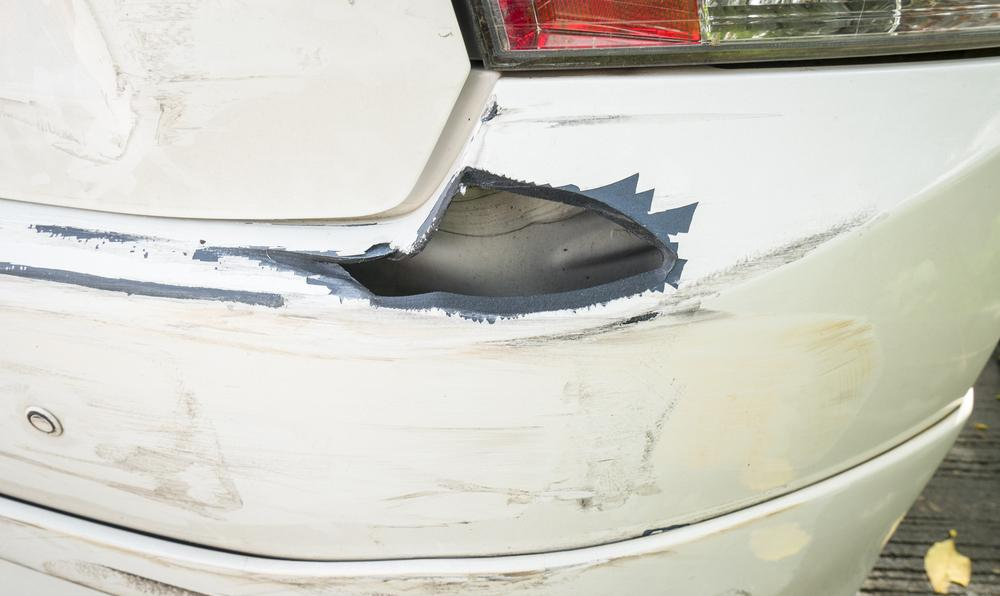crack: (343, 180, 673, 301)
scratch: (0, 207, 902, 561), (0, 494, 827, 596), (483, 99, 752, 130)
